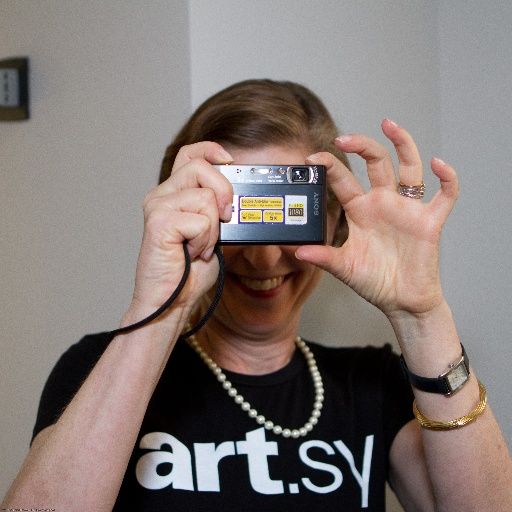hand: (299, 106, 472, 386), (131, 138, 236, 306)
